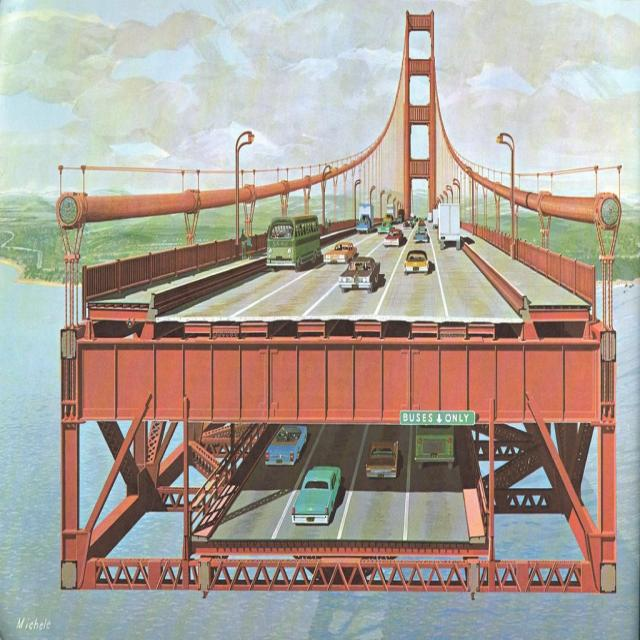other: (292, 464, 340, 521), (263, 422, 306, 466), (338, 253, 379, 295), (365, 433, 399, 480), (324, 235, 359, 268), (404, 247, 428, 275), (382, 227, 404, 250)
